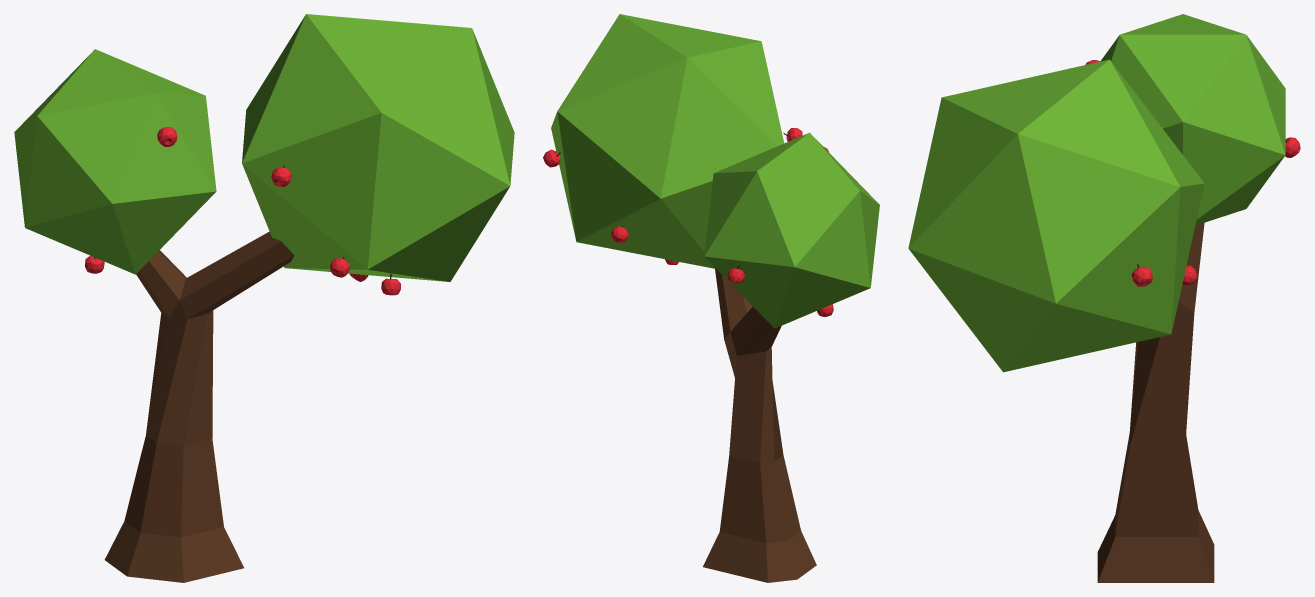
Rendered from Tree7.glb.
The picture shows the model from 3 angles, left to right: view 1: azimuth 30°, elevation 25°; view 2: azimuth 150°, elevation 25°; view 3: azimuth 270°, elevation 25°; orthographic projection. The views are drawn at different scales.
Visible parts, largest first — view 1: Tree7; view 2: Tree7; view 3: Tree7.
Part boxes in pixels (x1,y1,x2,y2): Tree7: [14, 14, 514, 582]; Tree7: [543, 14, 879, 582]; Tree7: [908, 14, 1300, 582].
Size of the model in its own units: 4.02 by 4.77 by 3.04.
